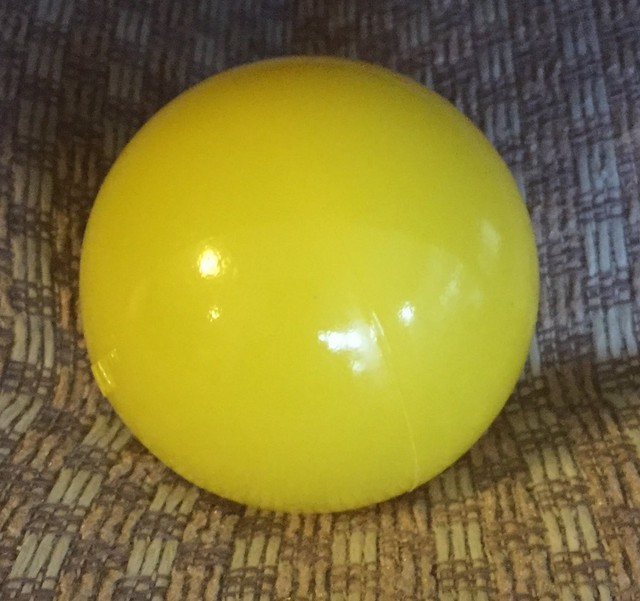ball: (81, 53, 543, 521)
